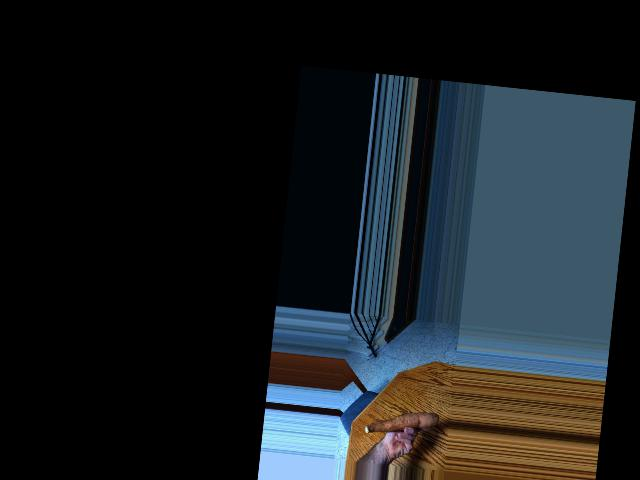sweet_potato: (363, 403, 437, 443)
